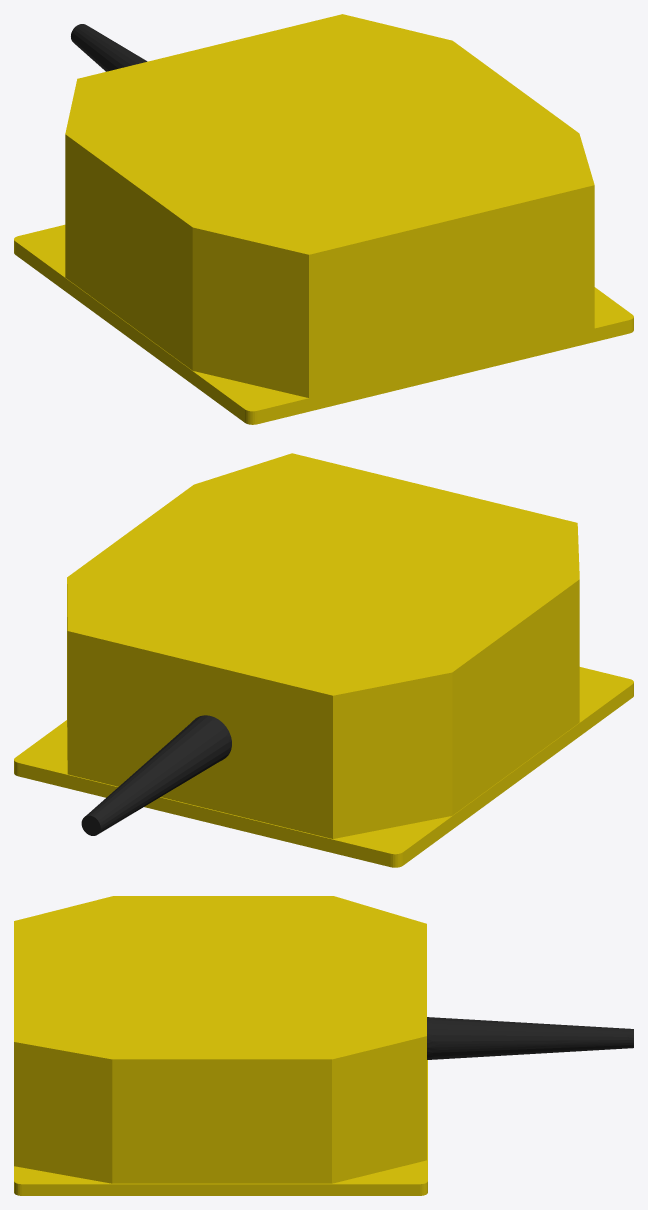
File: tyro_gemini.dae
3 views of the same model, one above another, from view 1: azimuth 30°, elevation 25°; view 2: azimuth 150°, elevation 25°; view 3: azimuth 270°, elevation 25° (orthographic). The views are drawn at different scales.
Parts seen in each view (by area): view 1: Tyro Gemini, Antenna; view 2: Tyro Gemini, Antenna; view 3: Tyro Gemini, Antenna.
Boxes of the visible parts, <box> form: Tyro Gemini: <box>14,14,633,424</box>; Antenna: <box>71,24,147,71</box>; Tyro Gemini: <box>14,453,633,867</box>; Antenna: <box>81,715,231,835</box>; Tyro Gemini: <box>14,896,427,1195</box>; Antenna: <box>427,1017,633,1059</box>.
Size of the model in its own units: 0.15 by 0.2396 by 0.058.
